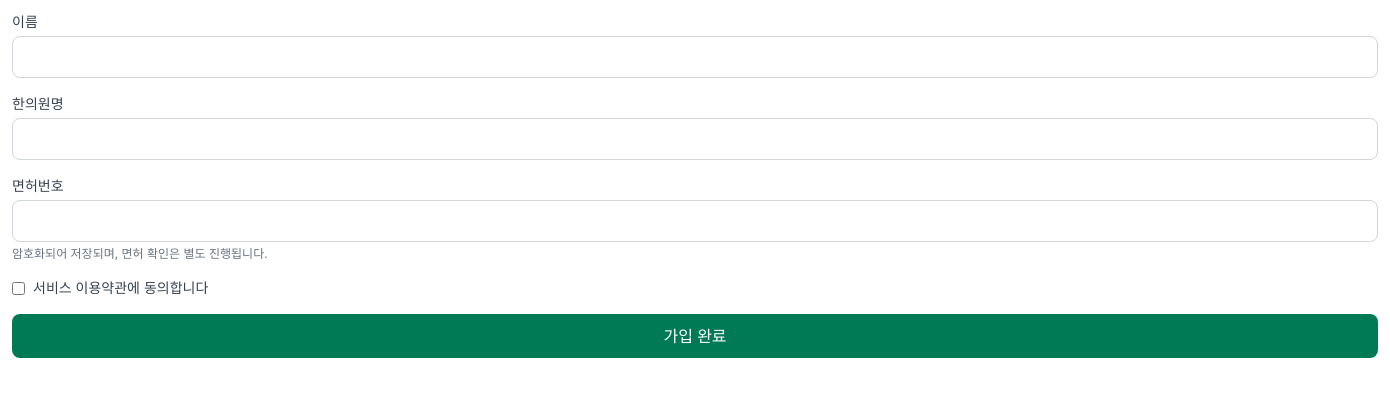
Test: OnboardingForm (docs/specs/17) › 만료된 티켓 → 에러 문구 + 다시 로그인 링크
Type "김의사" into the field labelled "이름" at {"x": 695, "y": 57}, box [12, 36, 1378, 78]
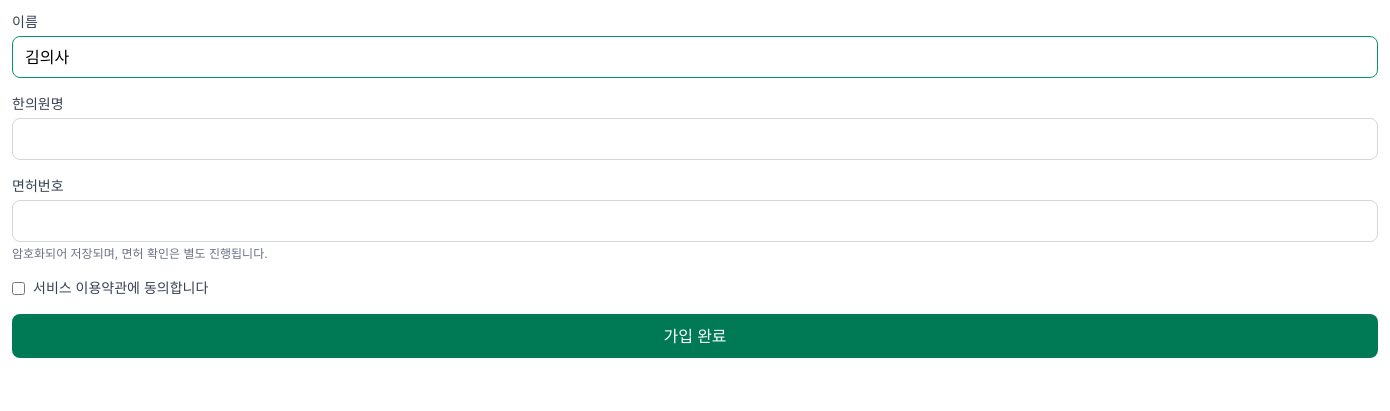
Type "서울한의원" into the field labelled "한의원명" at {"x": 695, "y": 139}, box [12, 118, 1378, 160]
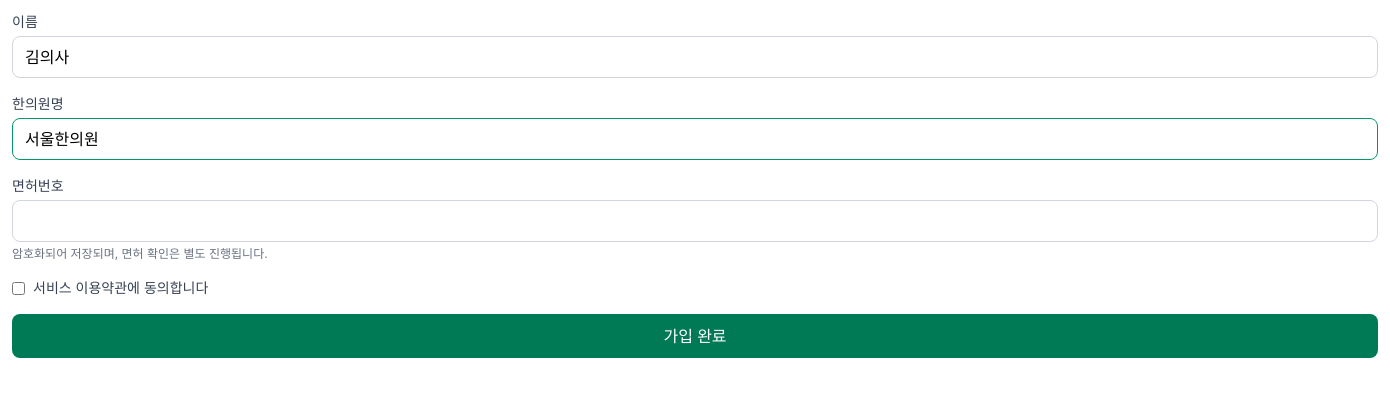
Type "LIC-0042" into the field labelled "면허번호" at {"x": 695, "y": 221}, box [12, 200, 1378, 242]
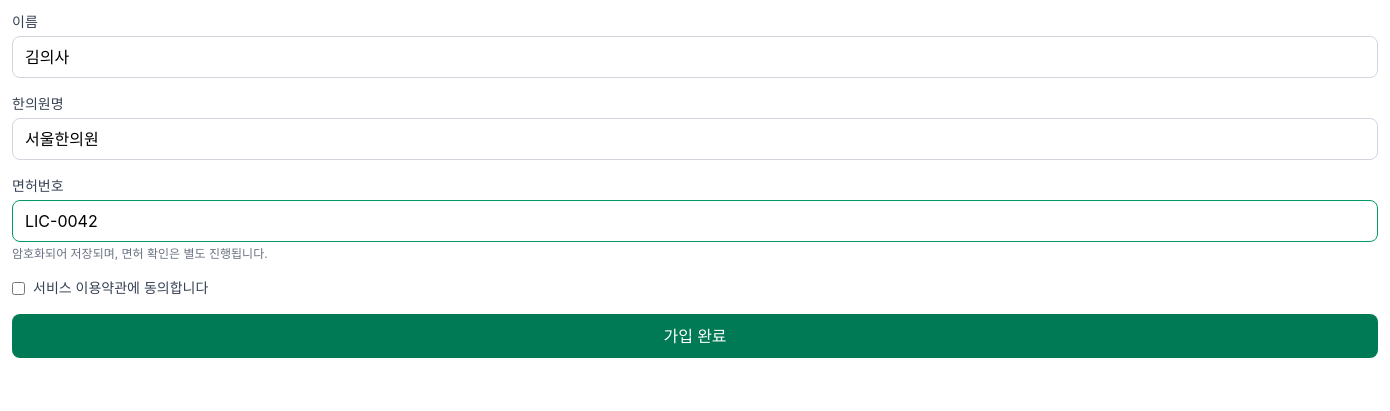
Click the checkbox at {"x": 18, "y": 288}, box [12, 282, 25, 294]
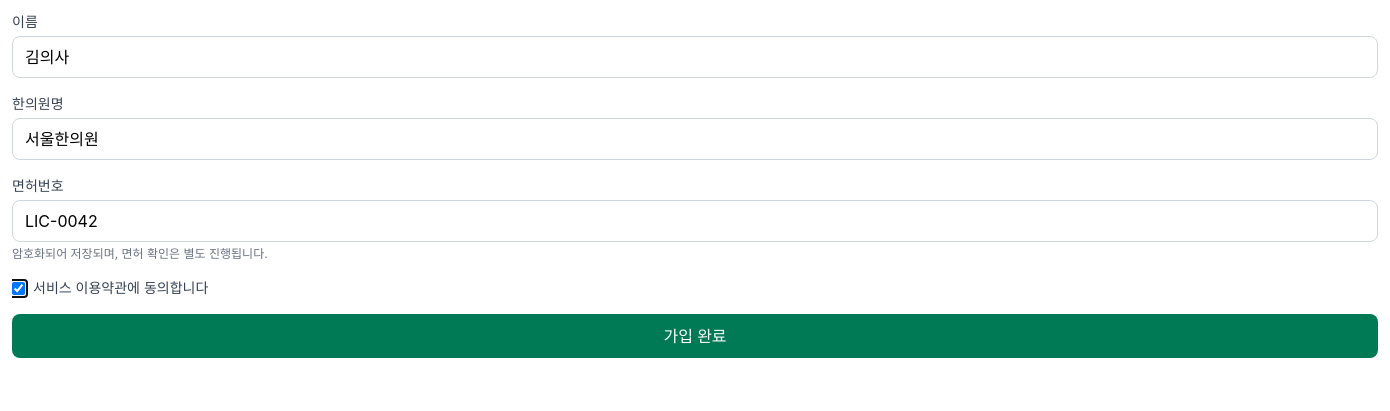
Click the button "가입 완료" at {"x": 695, "y": 336}, box [12, 314, 1378, 358]
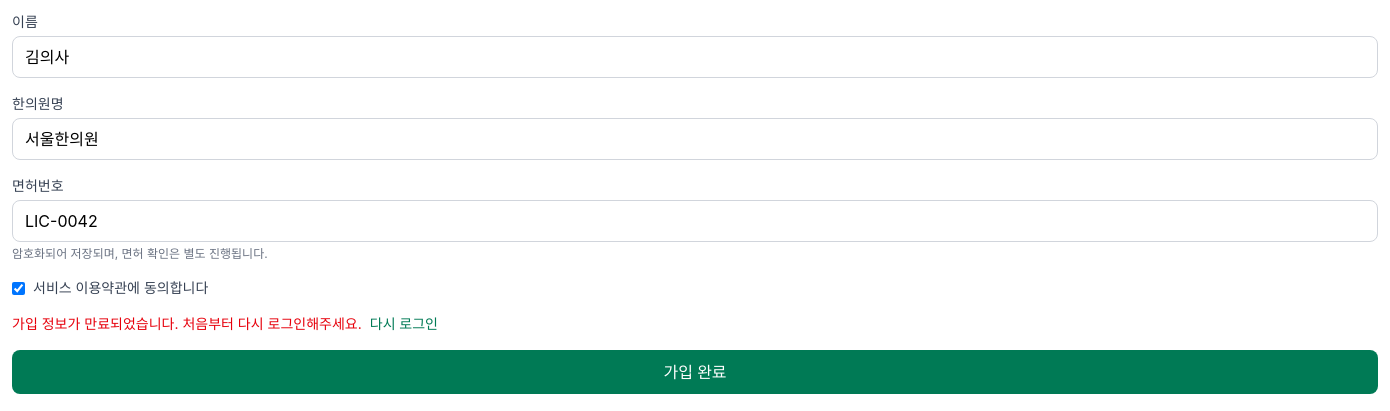
Expected: the message shows "가입 정보가 만료되었습니다. 처음부터 다시 로그인해주세요.", [12, 315, 362, 332]
Expected: the link "다시 로그인" is shown, [370, 315, 438, 332]
